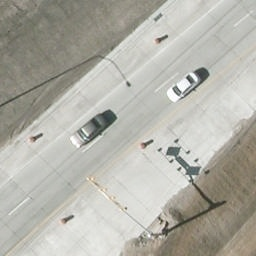car: (68, 118, 112, 147), (172, 74, 199, 104)
